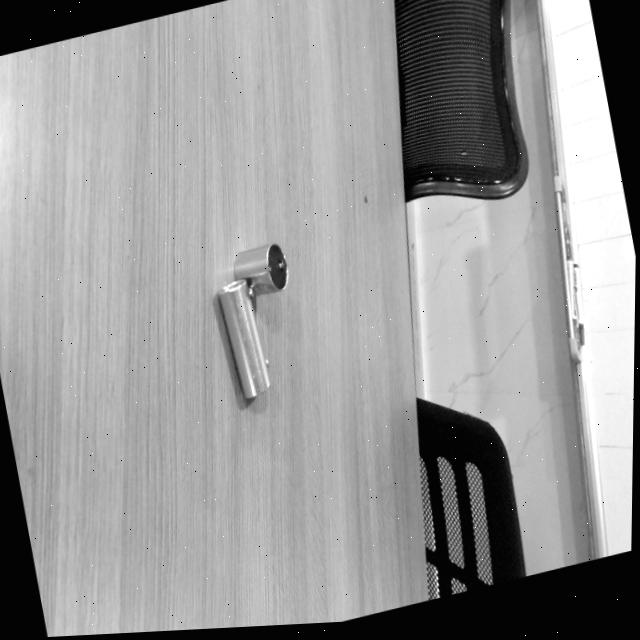Co_Lon: (215, 279, 273, 400)
Co_Nho: (229, 242, 291, 299)
